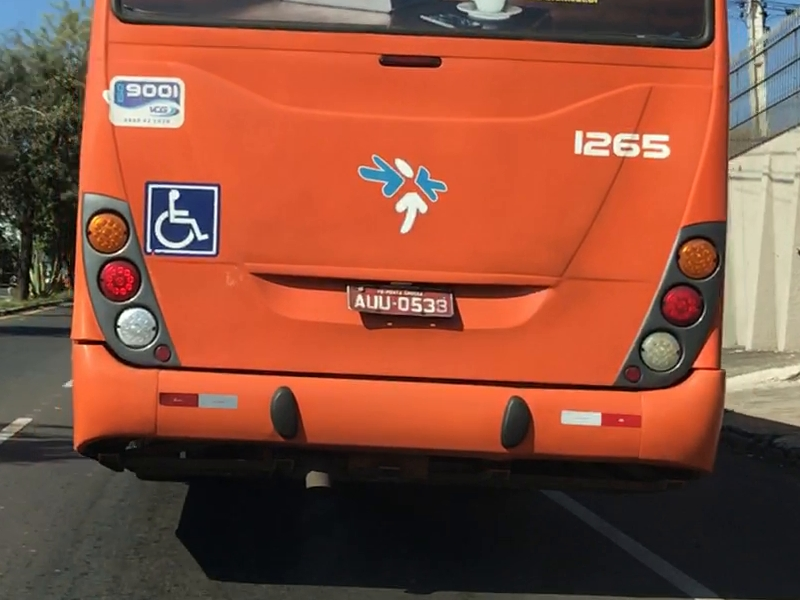placa: (347, 283, 453, 317)
